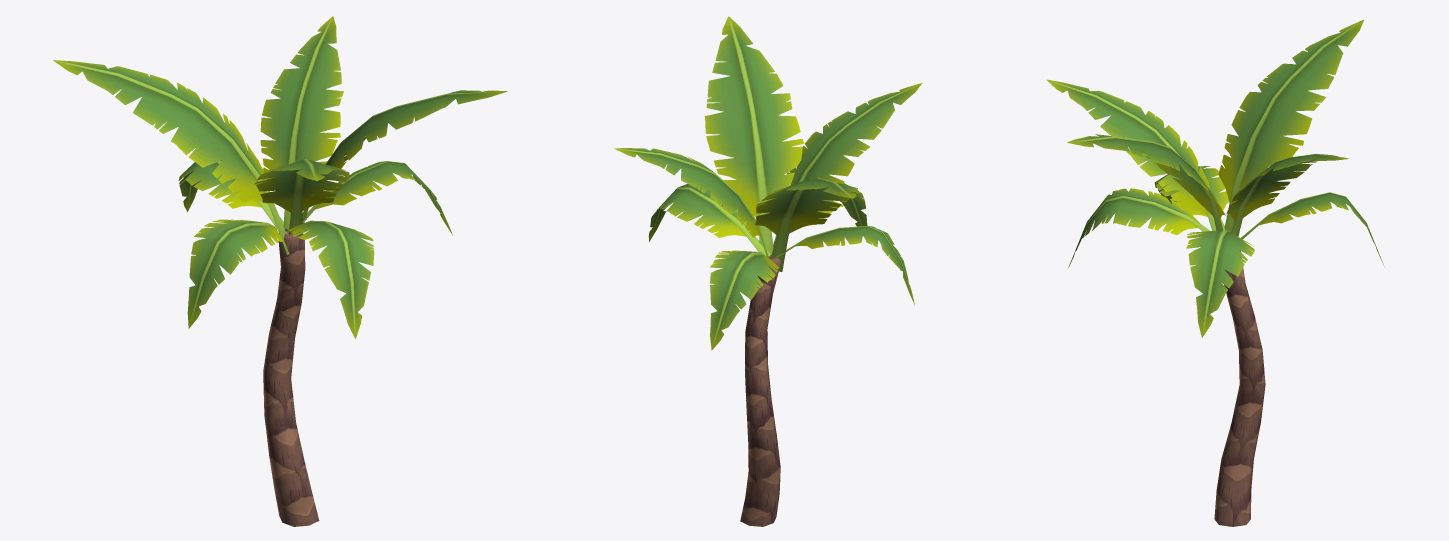
Rendered from palmtree_3.glb.
3 renders of one model, left to right at view 1: azimuth 30°, elevation 25°; view 2: azimuth 150°, elevation 25°; view 3: azimuth 270°, elevation 25°, orthographic. The views are drawn at different scales.
Parts seen in each view (by area): view 1: PalmTree_3; view 2: PalmTree_3; view 3: PalmTree_3.
Part boxes in pixels (x1,y1,x2,y2): PalmTree_3: [53, 16, 507, 526]; PalmTree_3: [614, 16, 922, 526]; PalmTree_3: [1046, 19, 1384, 526].
Bounding box in the file's own units: 4.47 × 4.67 × 4.22.
Materials: 2 (2 with a texture image).
